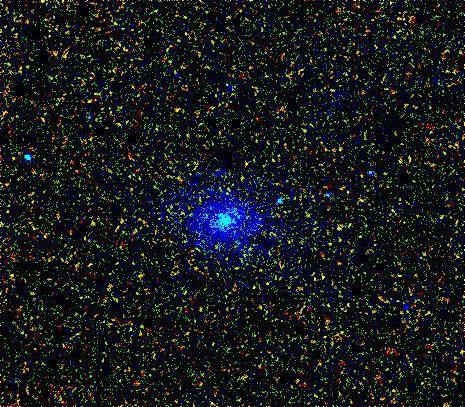star: (387, 143, 417, 173)
